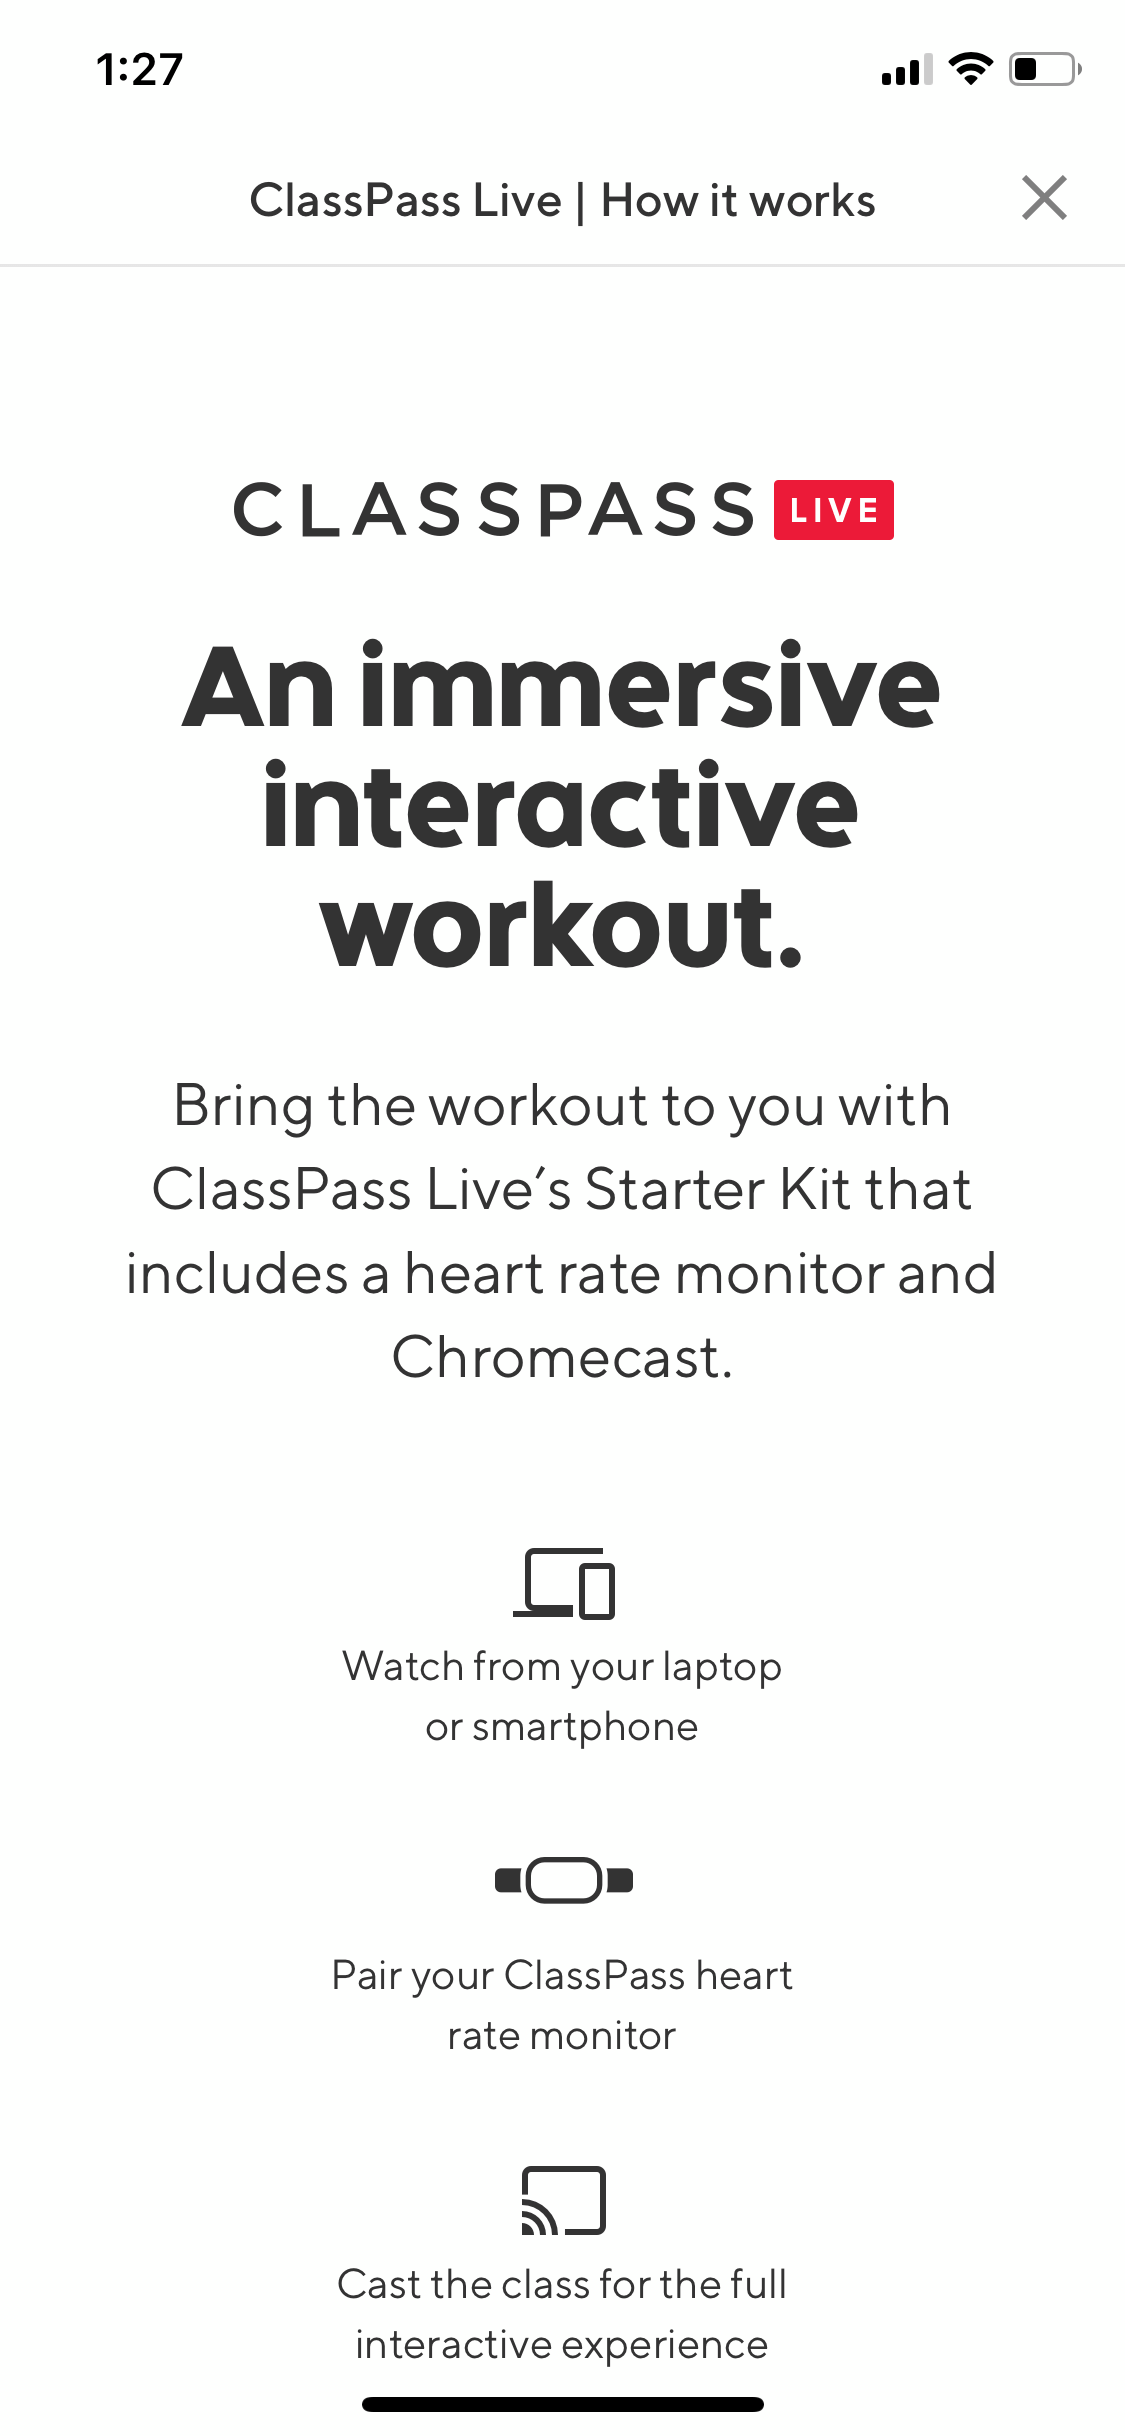Buttons: (999, 137, 1102, 239)
